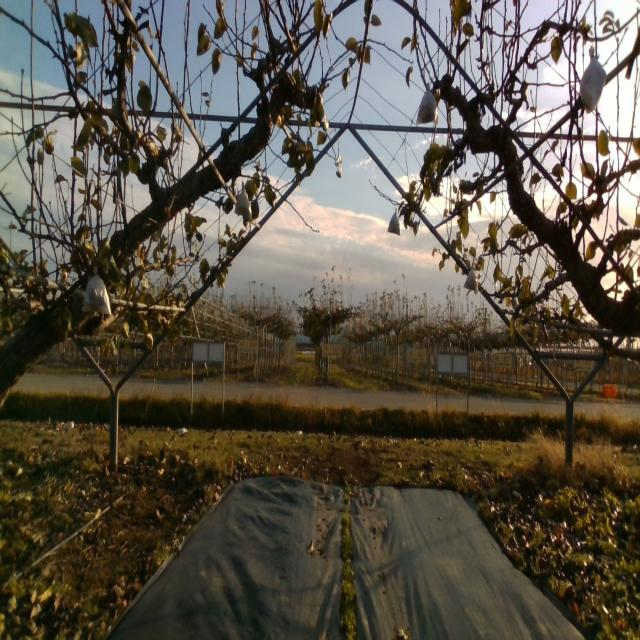pearbags: (581, 46, 606, 116), (82, 265, 113, 313), (416, 84, 439, 124), (235, 181, 252, 218), (463, 268, 479, 294), (388, 207, 400, 235)
